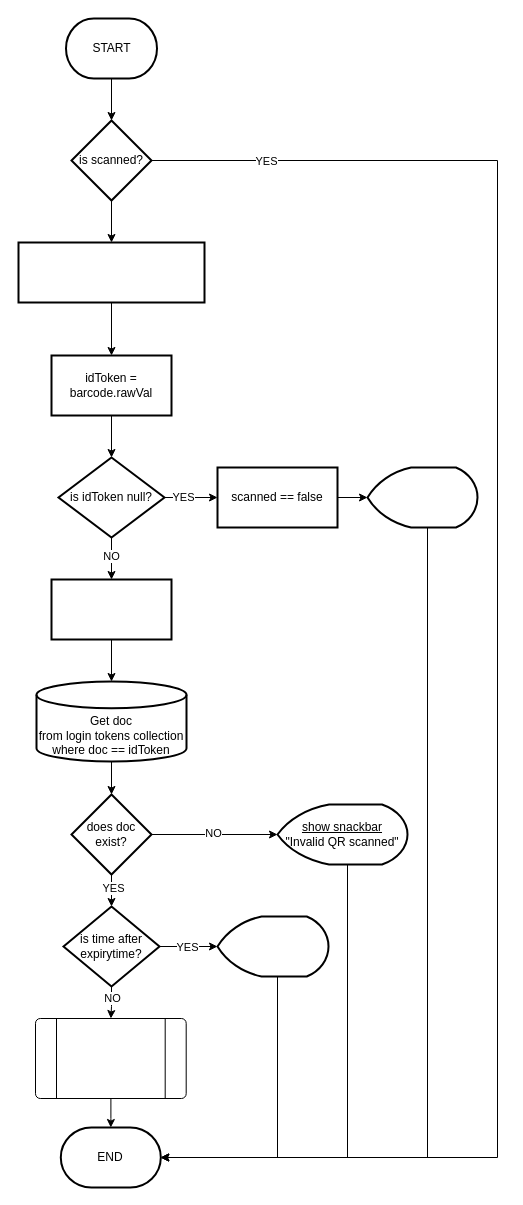
Image size: 523x1205. Some labels were removed from this diagram. The shapes that lost their labels are listed below. From the top down, each one's box as (x1, y1, x2, y2) in pixels, then its label:
(17, 241, 205, 303): barcode = capture.barcodes
(366, 466, 478, 528): show snackbar "No QR detected"
(50, 578, 172, 640): scanned = true
(216, 915, 329, 977): show snackbar "QR has expired"
(34, 1018, 186, 1098): kioskSignInWithUid (idToken)
